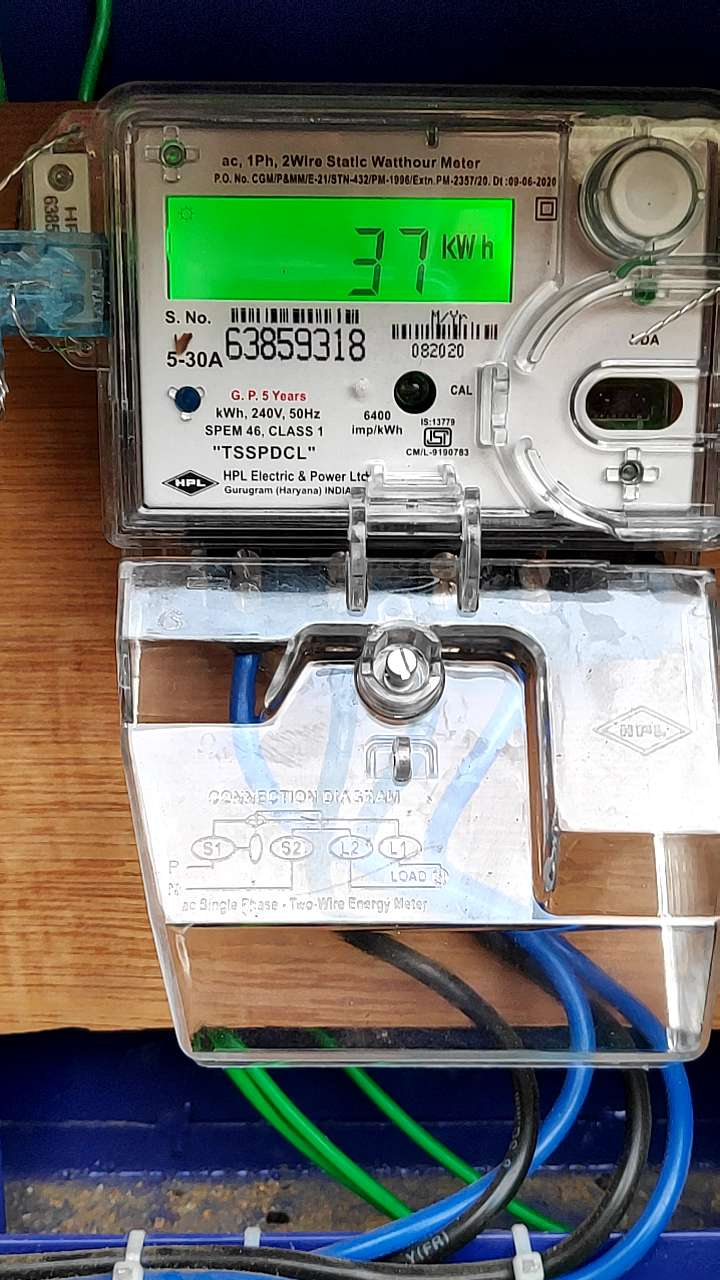meter_serial_number: (221, 322, 372, 368)
